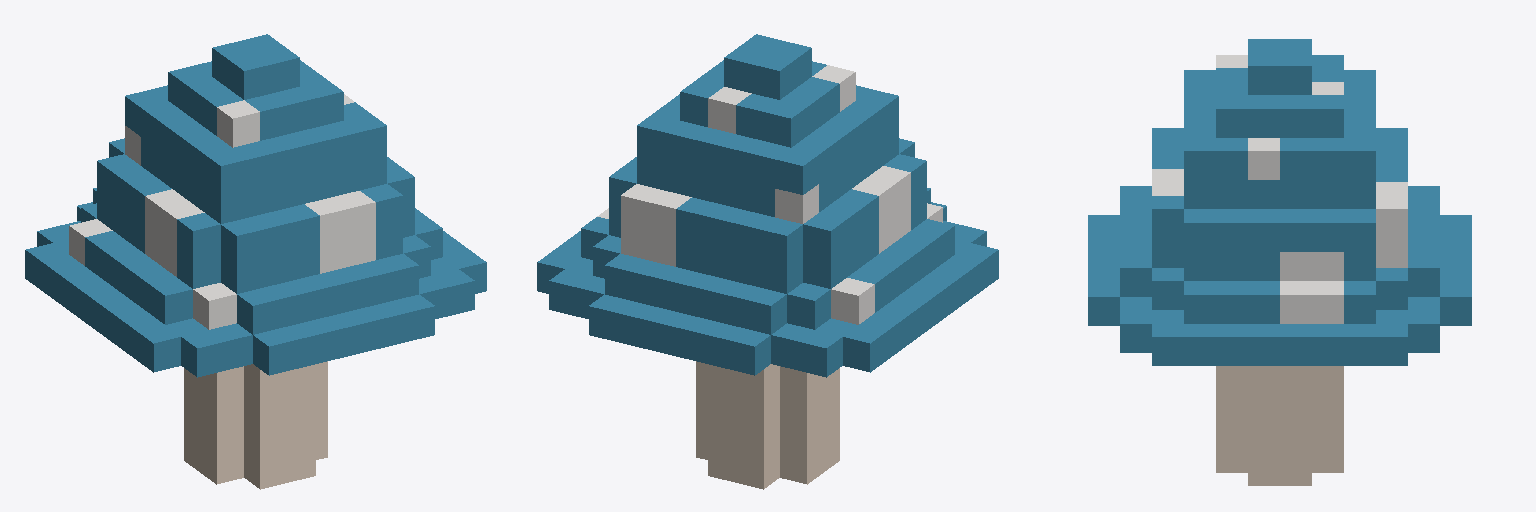
3 renders of one model, left to right at view 1: azimuth 30°, elevation 25°; view 2: azimuth 150°, elevation 25°; view 3: azimuth 270°, elevation 25°, orthographic.
Visible parts, largest first — view 1: object 1; view 2: object 1; view 3: object 1.
Part boxes in pixels (left/top/right/bottom): object 1: left=25, top=34, right=486, bottom=489; object 1: left=537, top=34, right=998, bottom=489; object 1: left=1088, top=39, right=1471, bottom=485.
Size of the model in its own units: 1.2 by 1.4 by 1.2.
Materials: 1 (1 with a texture image).